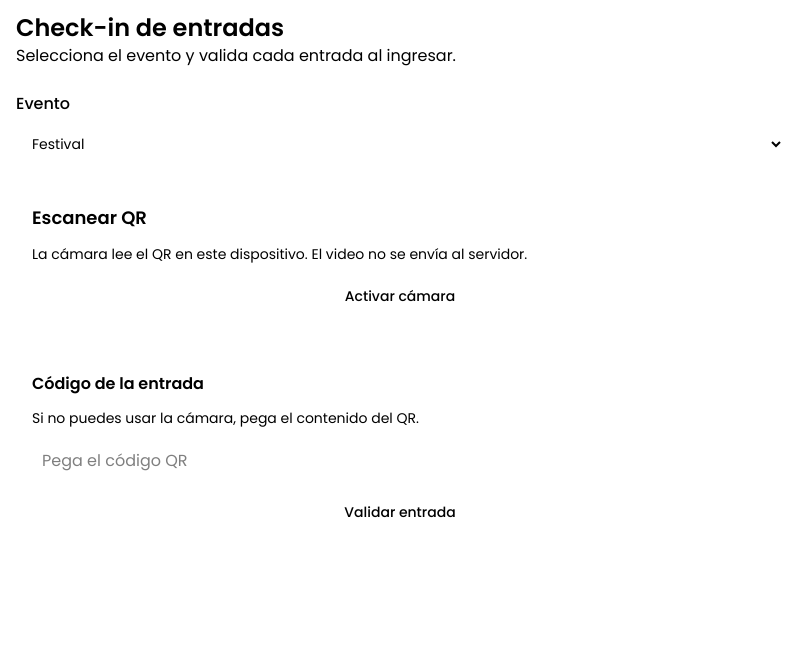
Scenario: Check-in con QR › una falla de red queda sin confirmar y permite reintentar el mismo código
The image size is (801, 669).
Type "retry-code" into the field labelled "Código de la entrada". click: [400, 460]
box: [32, 440, 768, 480]
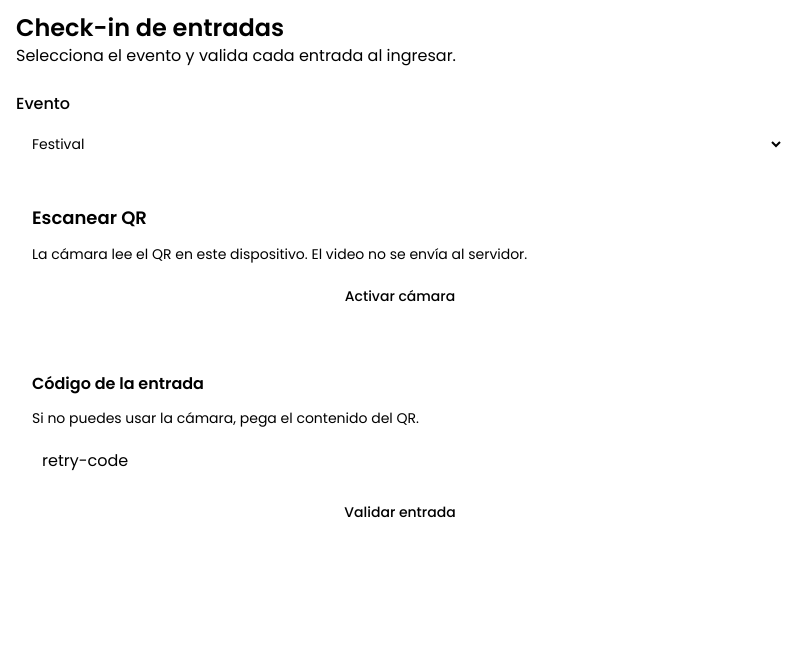
Click the button "Validar entrada". click: [400, 512]
box: [32, 492, 768, 532]
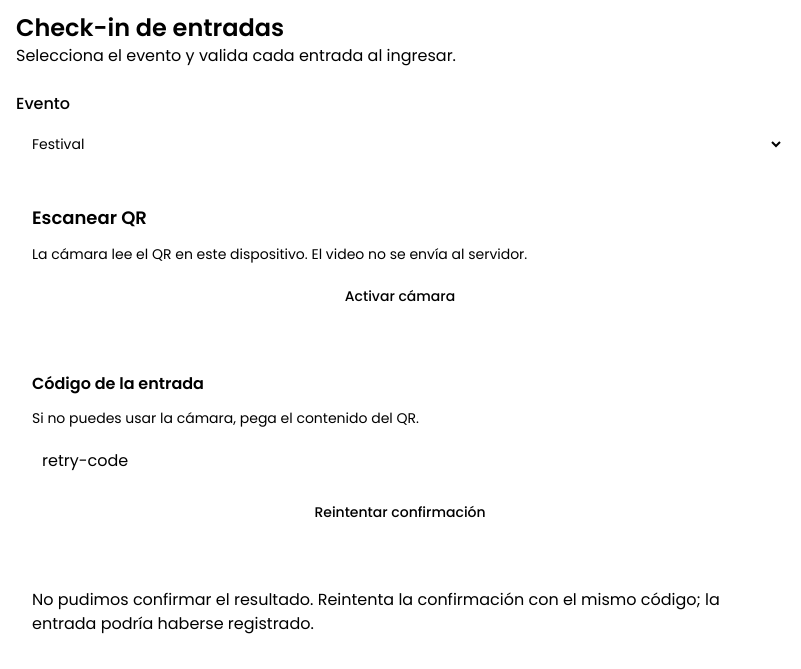
Expected: the message shows "la entrada podría haberse registrado", [32, 588, 720, 635]
Click the button "Reintentar confirmación". click: [400, 512]
box: [32, 492, 768, 532]
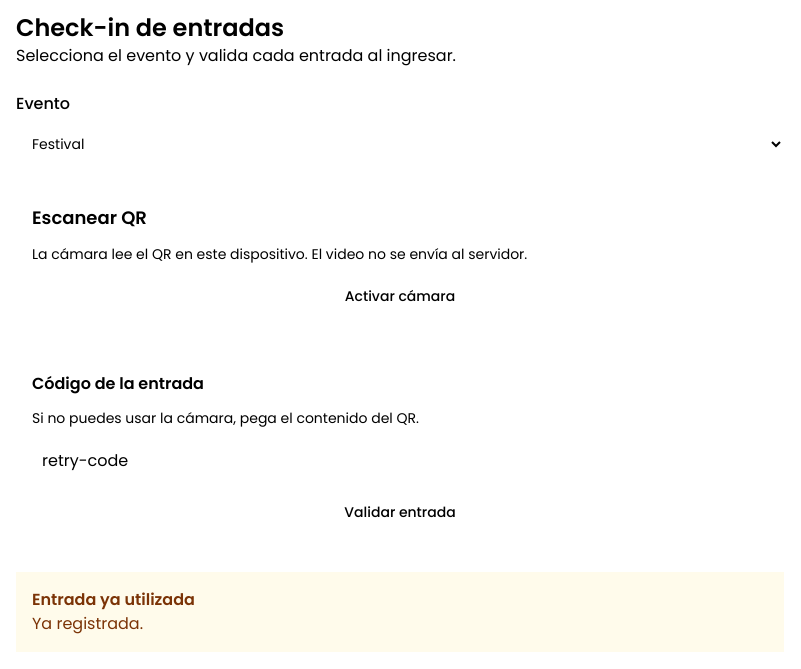
Expected: the text "Entrada ya utilizada" is shown, [32, 588, 195, 611]
